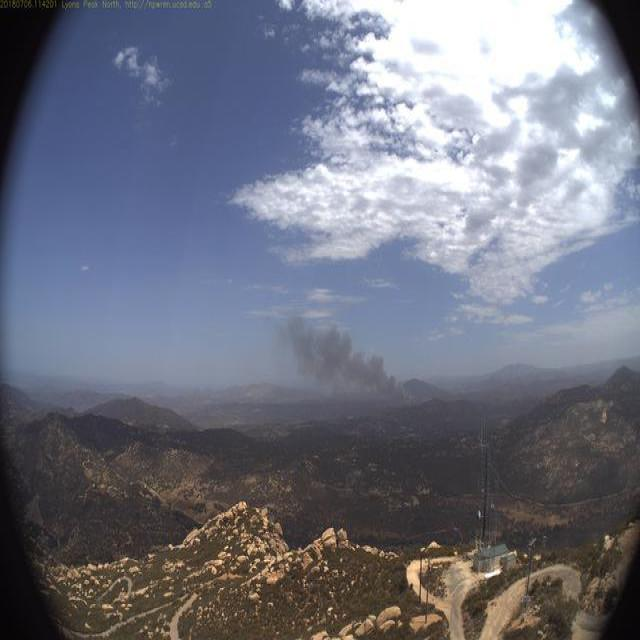smoke: (274, 308, 419, 409)
